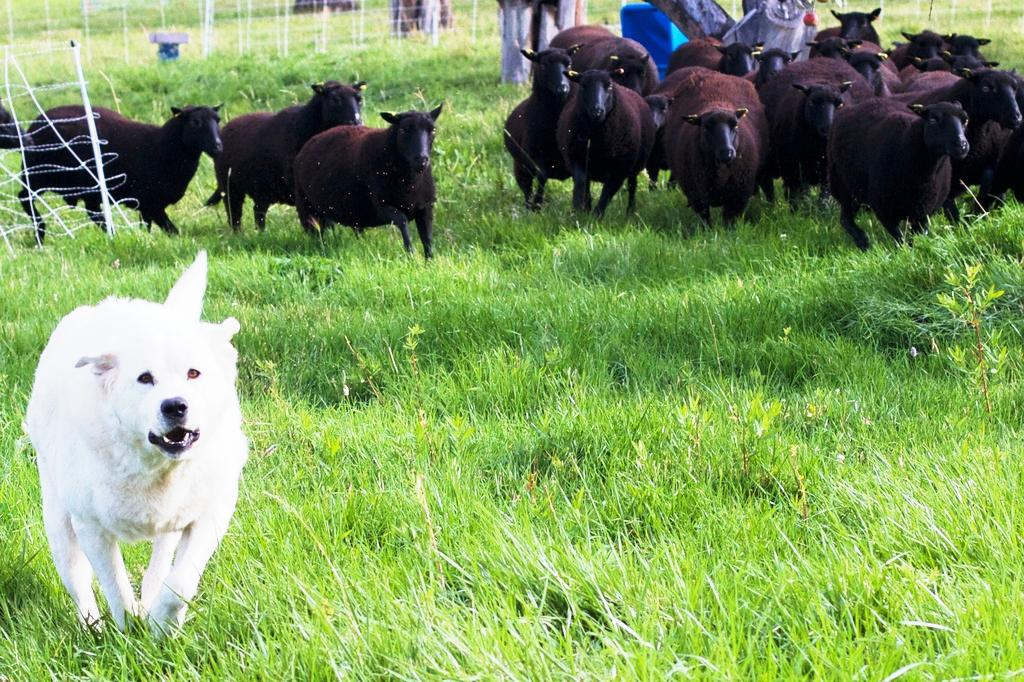Sheep: (20, 100, 232, 248), (196, 73, 376, 238), (826, 94, 970, 258), (283, 103, 448, 244), (882, 67, 1022, 218), (767, 57, 874, 217), (663, 72, 766, 234), (560, 59, 654, 229), (505, 40, 587, 208), (667, 30, 762, 102), (808, 8, 884, 65)
